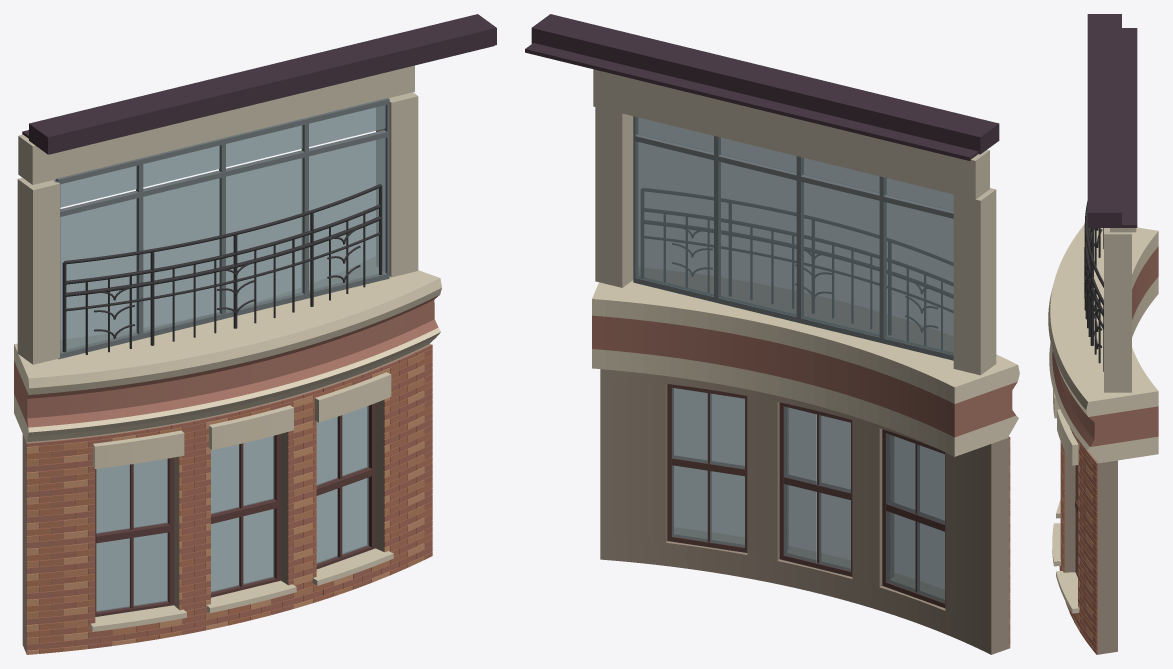
File: hongkou-gongyuan-fang-8-curved-bay-and-balcony-raw.glb
The picture shows the model from 3 angles, left to right: view 1: azimuth 30°, elevation 25°; view 2: azimuth 150°, elevation 25°; view 3: azimuth 270°, elevation 25°; orthographic projection. The views are drawn at different scales.
Visible parts, largest first — view 1: 公园坊8号弧窗与退台阳台; view 2: 公园坊8号弧窗与退台阳台; view 3: 公园坊8号弧窗与退台阳台.
Part boxes in pixels (x1,y1,x2,y2): 公园坊8号弧窗与退台阳台: [14, 14, 496, 654]; 公园坊8号弧窗与退台阳台: [525, 14, 1019, 654]; 公园坊8号弧窗与退台阳台: [1048, 14, 1158, 654].
Bounding box in the file's own units: 4.86 × 5.12 × 1.1.
